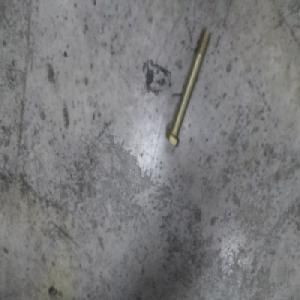Bolt: (161, 27, 207, 149)
